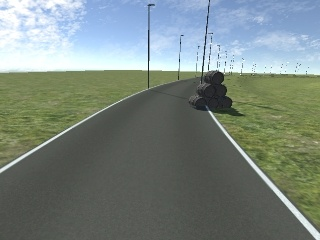Barriels: (186, 68, 242, 115)
